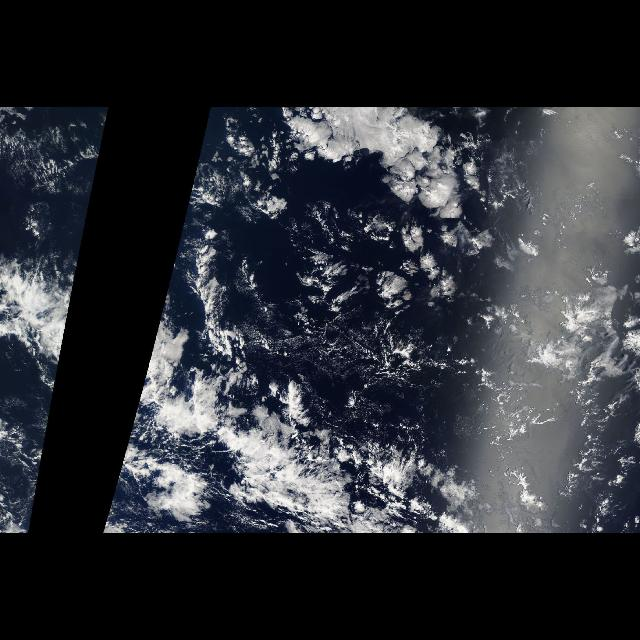Flower: (364, 206, 526, 324)
Sugar: (241, 271, 559, 405), (2, 112, 86, 244)
